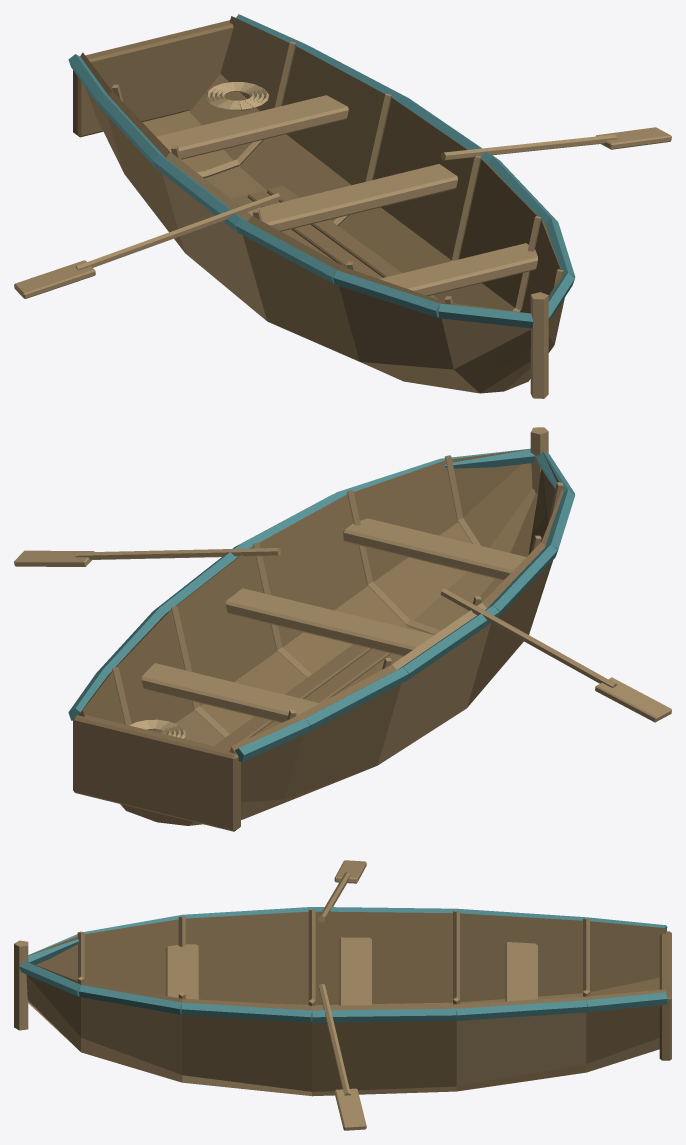
The model's file is fishing-boat.glb.
3 views of the same model, one above another, from view 1: azimuth 30°, elevation 25°; view 2: azimuth 150°, elevation 25°; view 3: azimuth 270°, elevation 25° (orthographic). The views are drawn at different scales.
Visible parts, largest first — view 1: Static_mesh, Oar_L_mesh, Oar_R_mesh; view 2: Static_mesh, Oar_L_mesh, Oar_R_mesh; view 3: Static_mesh, Oar_R_mesh, Oar_L_mesh.
Part boxes in pixels (box(x1,y1,x2,y2)): Static_mesh: box(68, 14, 575, 398); Oar_L_mesh: box(14, 193, 280, 298); Oar_R_mesh: box(441, 127, 671, 160); Static_mesh: box(68, 427, 575, 831); Oar_L_mesh: box(440, 588, 671, 722); Oar_R_mesh: box(14, 548, 280, 566); Static_mesh: box(14, 907, 671, 1096); Oar_R_mesh: box(318, 984, 366, 1130); Oar_L_mesh: box(318, 860, 366, 922).
Size of the model in its own units: 4.37 by 1.04 by 4.56.
